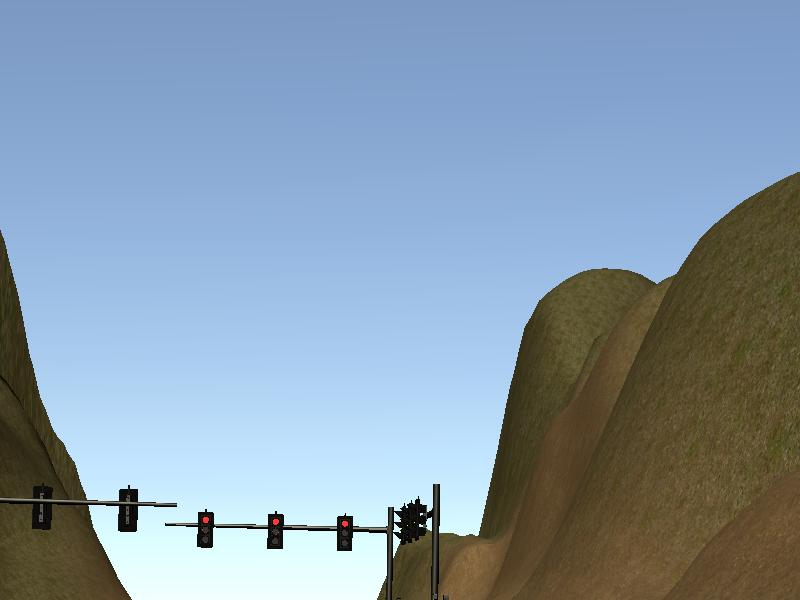Red: (198, 510, 215, 547), (267, 513, 283, 548), (337, 516, 352, 550)
